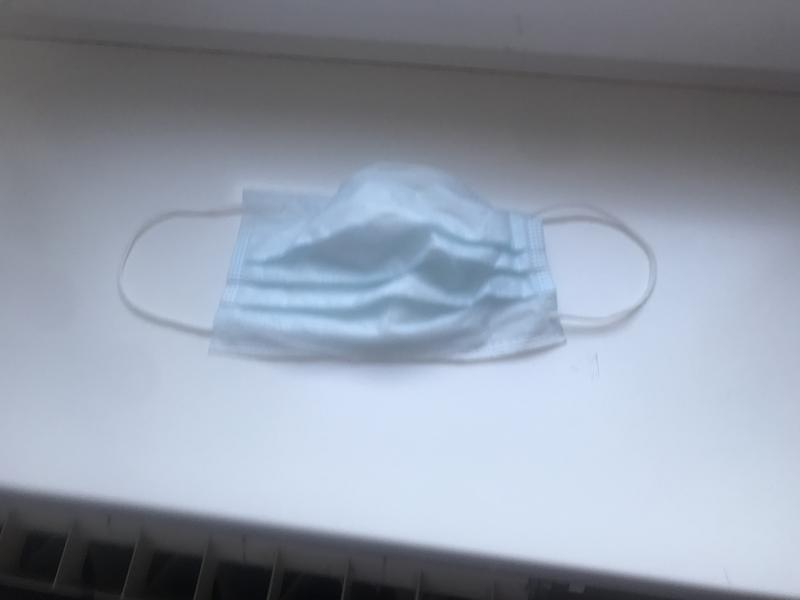medical_mask: (117, 165, 656, 360)
